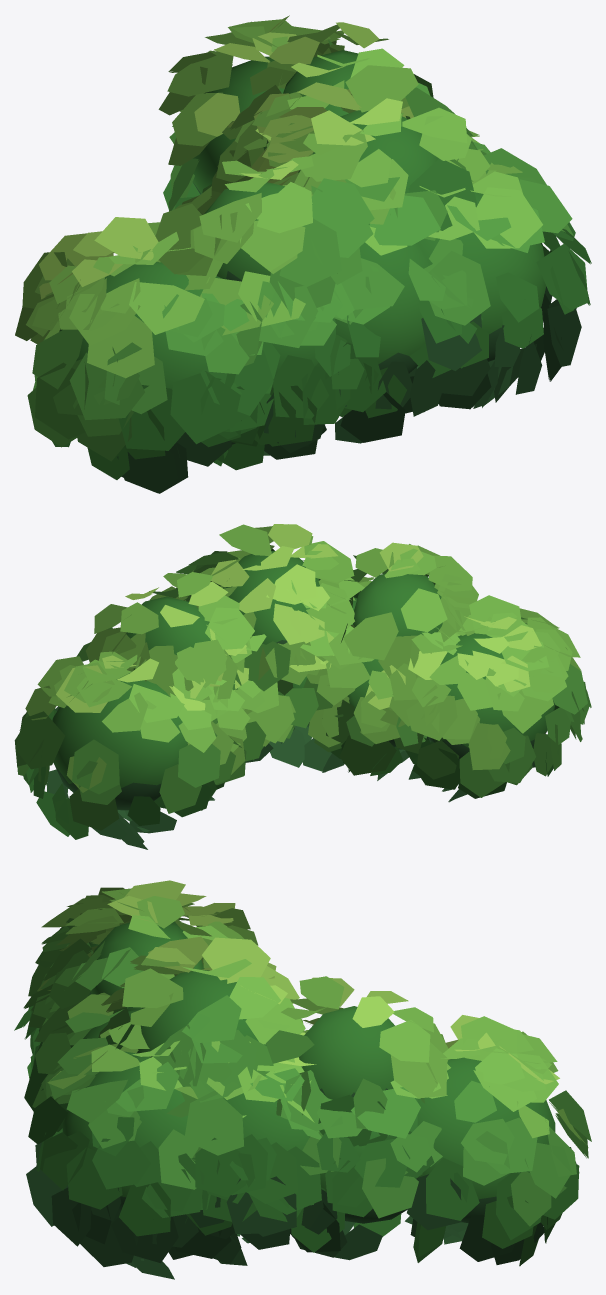
Rendered from HedgeCorner.glb.
3 renders of one model, top to bottom at view 1: azimuth 30°, elevation 25°; view 2: azimuth 150°, elevation 25°; view 3: azimuth 270°, elevation 25°, orthographic. The views are drawn at different scales.
Visible parts, largest first — view 1: Rustle, Body; view 2: Rustle, Body; view 3: Rustle, Body.
Part boxes in pixels (<box>): Rustle: <box>15,15,591,493</box>; Body: <box>59,50,546,390</box>; Rustle: <box>14,524,591,849</box>; Body: <box>52,551,555,810</box>; Rustle: <box>14,880,591,1279</box>; Body: <box>63,921,555,1223</box>.
Size of the model in its own units: 6.2 by 3.37 by 6.12.
2 materials, 2 textured.
